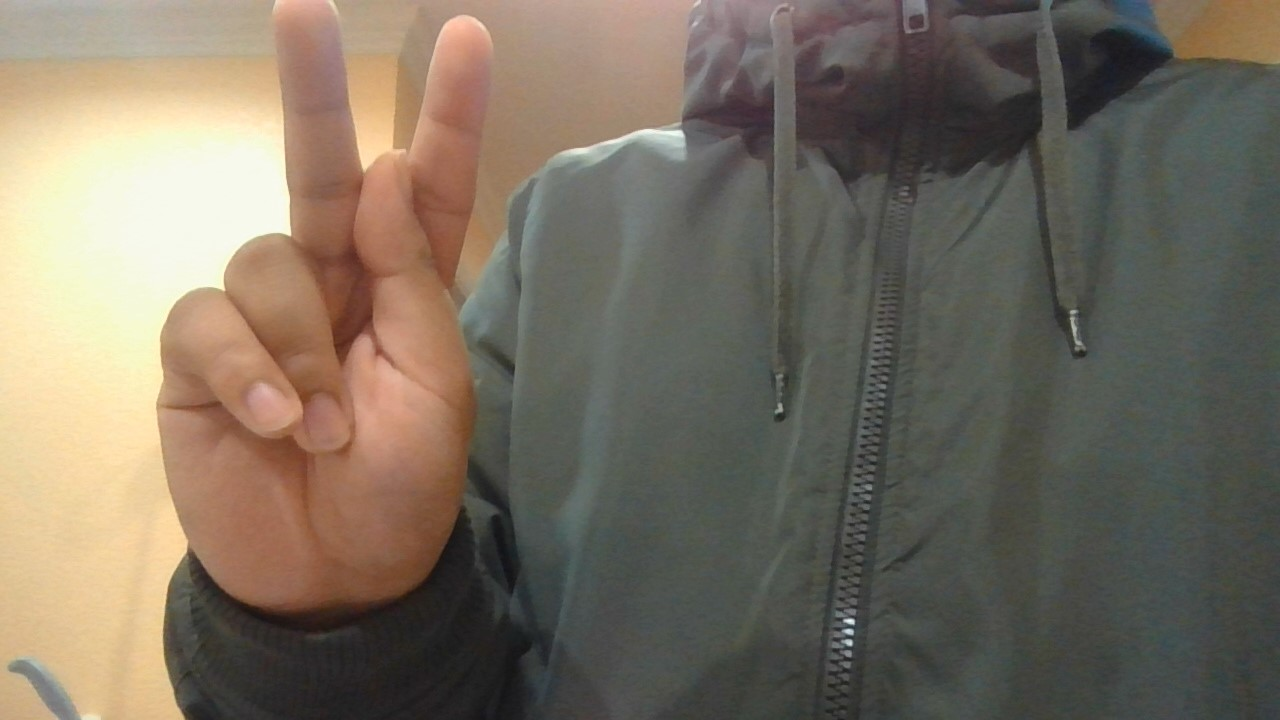k: (127, 1, 545, 625)
